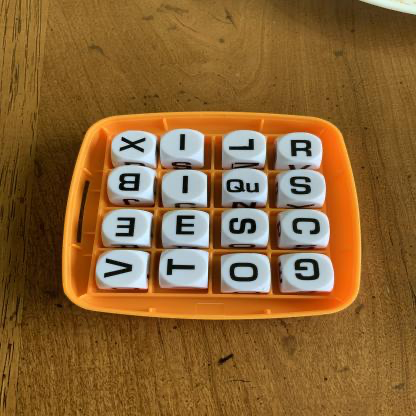b: (108, 166, 154, 198)
c: (284, 211, 331, 245)
e: (164, 211, 210, 244), (103, 211, 150, 243)
g: (284, 254, 334, 292)
i: (163, 171, 207, 201), (162, 130, 205, 159)
l: (224, 132, 267, 161)
o: (223, 254, 271, 292)
qu: (224, 169, 268, 200)
r: (280, 134, 323, 164)
s: (223, 210, 270, 243), (281, 171, 327, 202)
t: (161, 251, 208, 286)
v: (96, 251, 147, 288)
x: (112, 132, 157, 161)
